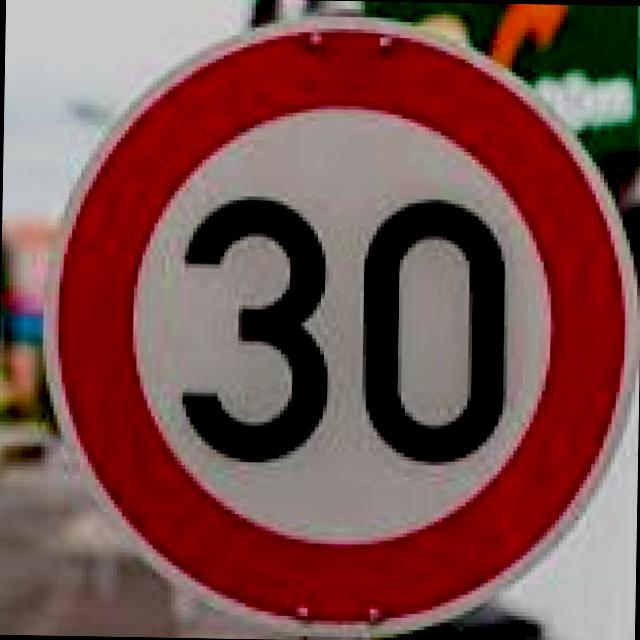Ograniczenie predkosci do 30: (49, 20, 626, 625)
